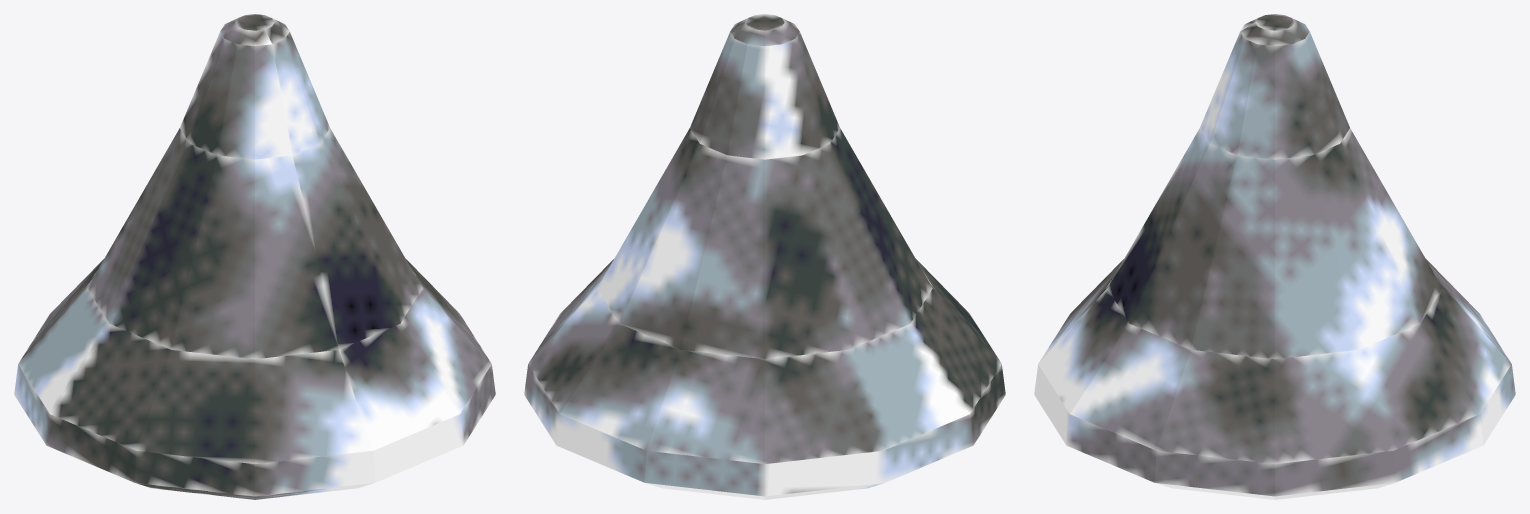
Rendered from Pointer.glb.
3 renders of one model, left to right at view 1: azimuth 30°, elevation 25°; view 2: azimuth 150°, elevation 25°; view 3: azimuth 270°, elevation 25°, orthographic.
Parts seen in each view (by area): view 1: Pointer; view 2: Pointer; view 3: Pointer.
Boxes of the visible parts, x1=… form: Pointer: x1=14, y1=14, x2=495, y2=499; Pointer: x1=524, y1=14, x2=1005, y2=499; Pointer: x1=1034, y1=14, x2=1515, y2=499.
Bounding box in the file's own units: 1.71 × 1.53 × 1.71.
1 material, 1 textured.
